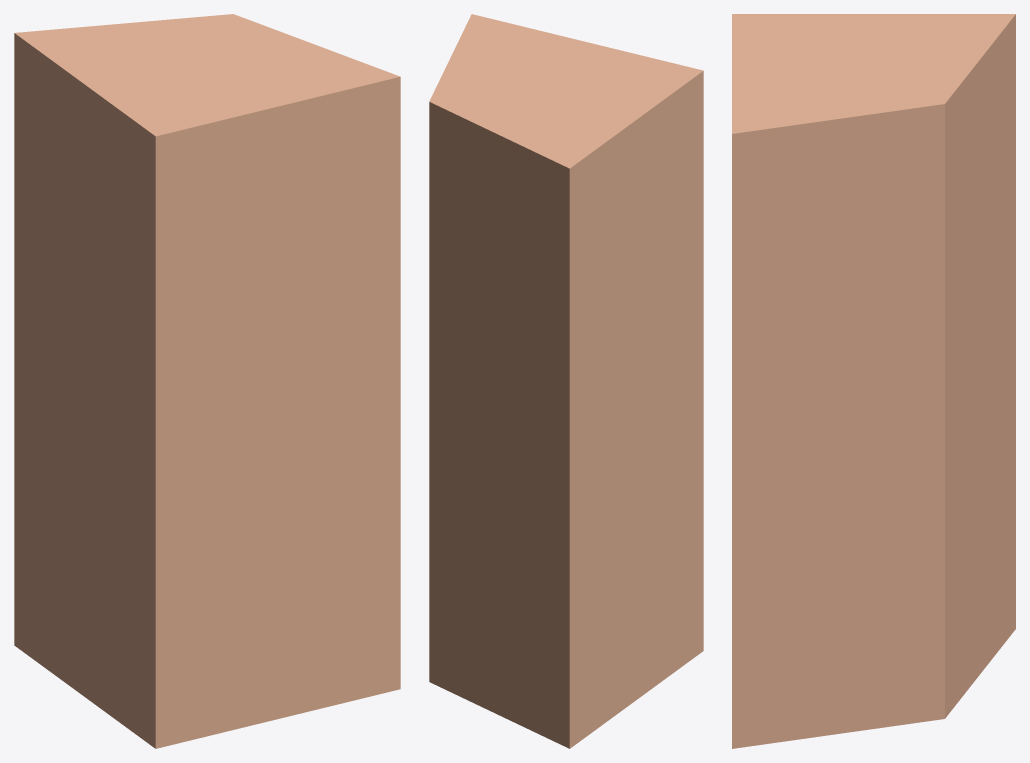
File: k-cliff-cornerlarge-rock.glb
3 renders of one model, left to right at view 1: azimuth 30°, elevation 25°; view 2: azimuth 150°, elevation 25°; view 3: azimuth 270°, elevation 25°, orthographic. The views are drawn at different scales.
Visible parts, largest first — view 1: cliff_cornerLarge_rock; view 2: cliff_cornerLarge_rock; view 3: cliff_cornerLarge_rock.
Boxes of the visible parts, box(x1,y1,x2,y2) form: cliff_cornerLarge_rock: box(14, 14, 400, 748); cliff_cornerLarge_rock: box(429, 14, 703, 748); cliff_cornerLarge_rock: box(732, 14, 1015, 748).
Bounding box in the file's own units: 0.4185 × 1 × 0.4185.
